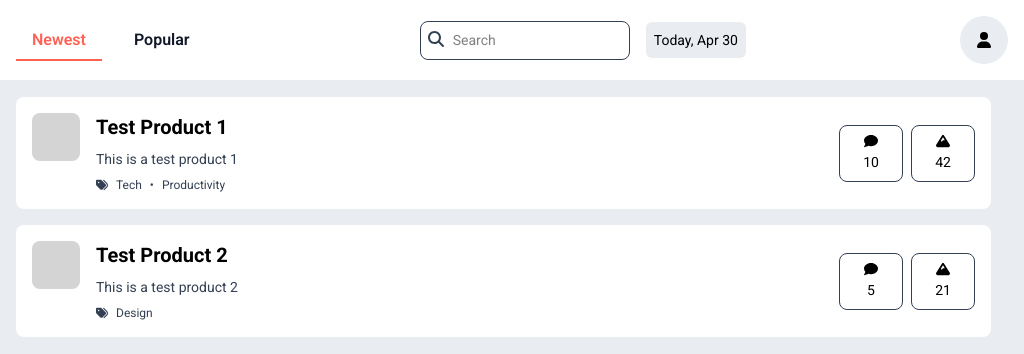
Posts › shows message when no posts match search term
Type "no match search term" into the field with placeholder "Search". click: (525, 40)
box: [420,20,630,60]
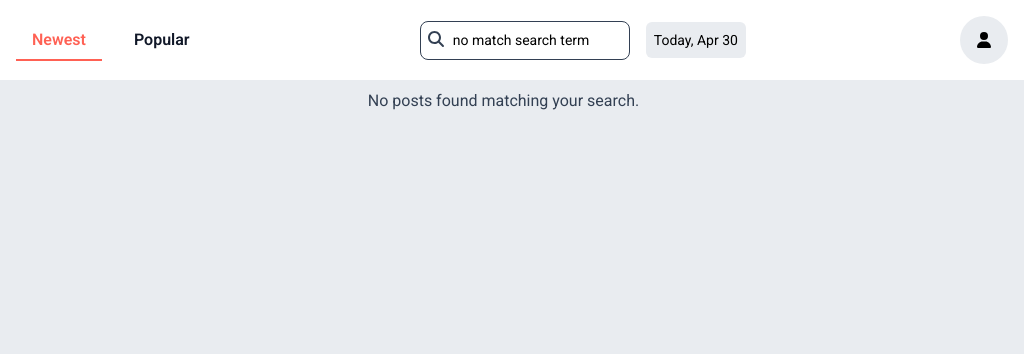
Expected: the text "No posts found matching your search." is shown, [368,91,639,110]
